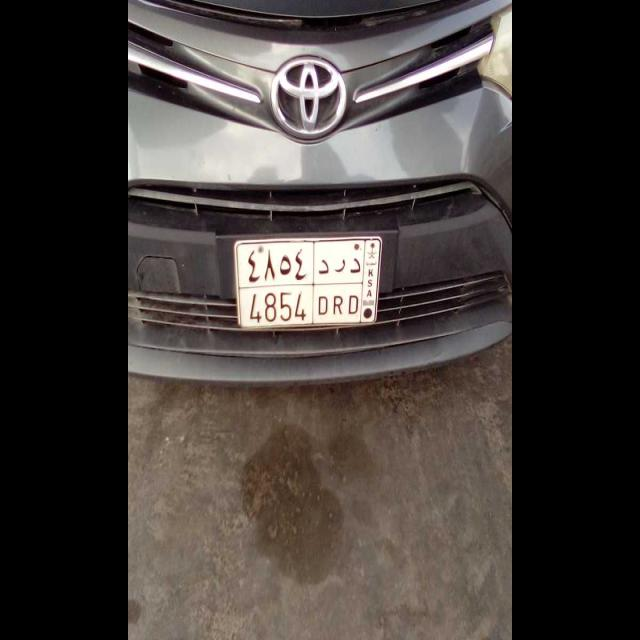license_plate: (239, 284, 365, 330)
